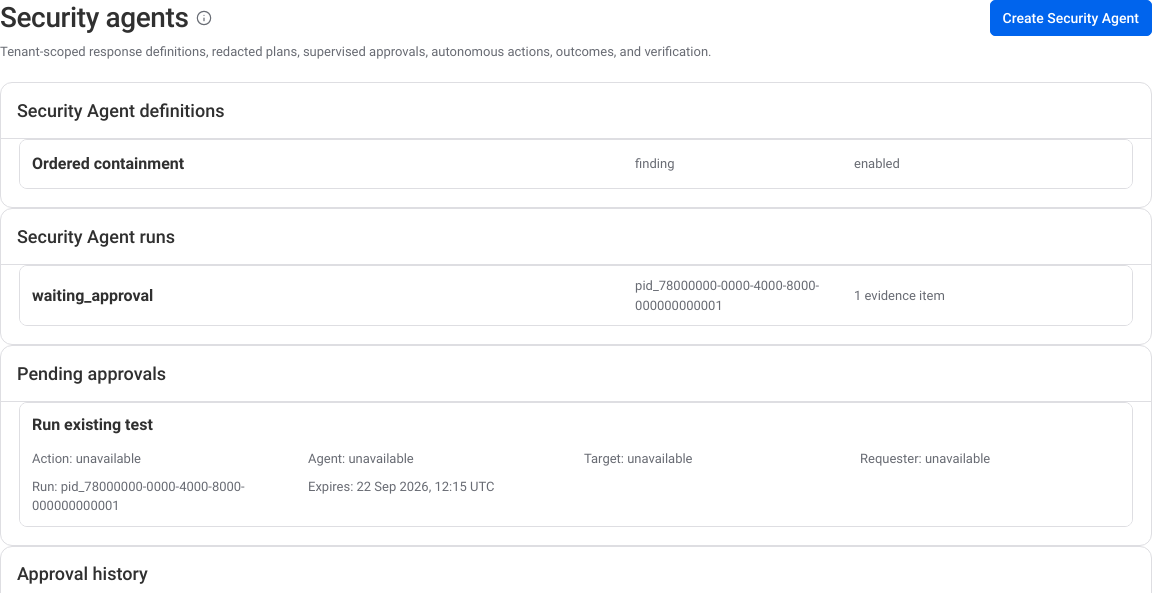
Test: ordered run drawer › refreshes an open ordered approval on reconnect
The width and height of the screenshot is (1152, 593).
What coordinates should you click on to do the following:
click the button with aria-label "Open approval pid_78000000-0000-4000-8000-000000000007"
I would click on:
 (92, 424)
Its box is [20,403,1132,526].
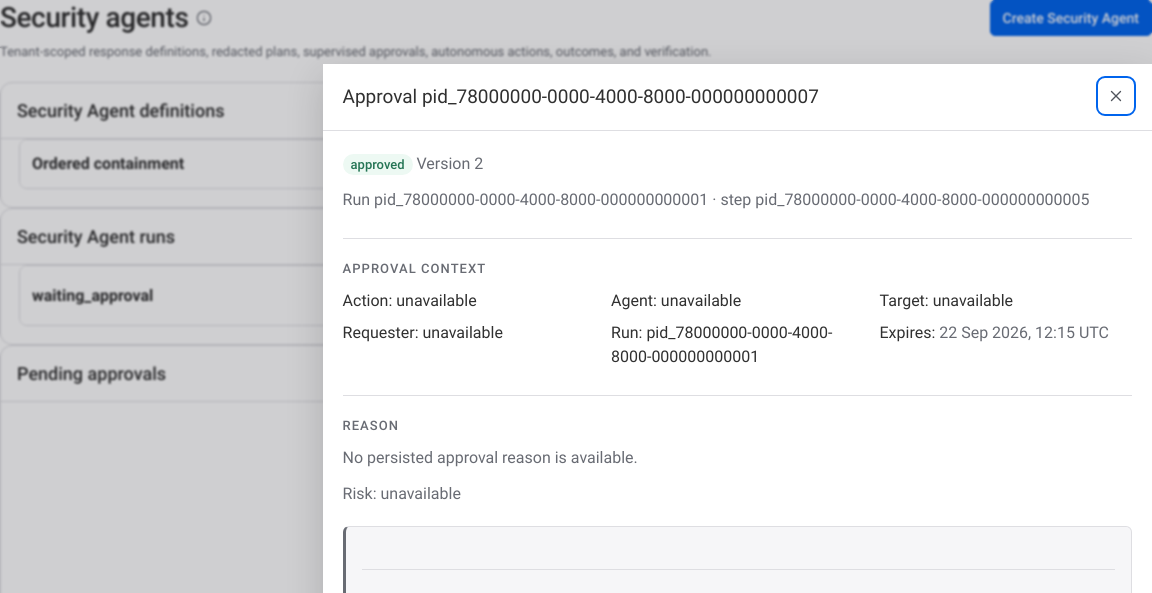
Now the text "approved" is shown, box [343,154,413,175]
